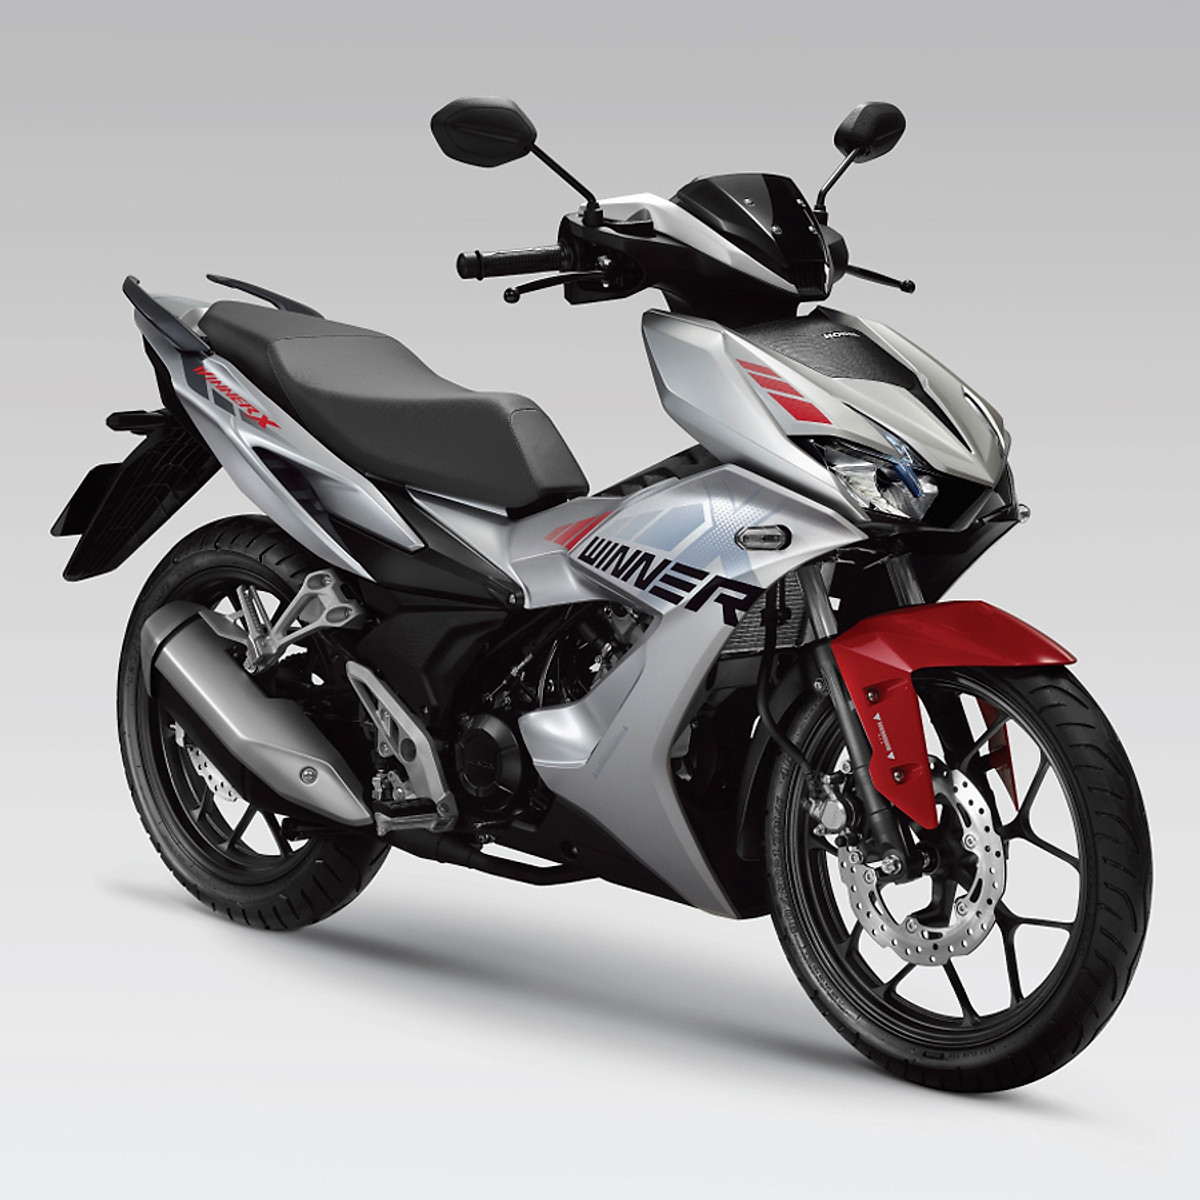motorbike: (51, 93, 1157, 1098)
